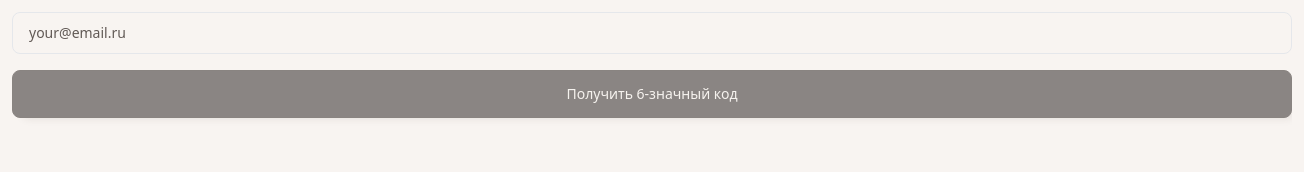
Scenario: EmailOtpForm › displays error and clears it when user edits input
The image size is (1304, 172).
Type "bad@email" into the field with placeholder "your@email.ru" at (652, 33), box [12,12,1292,54]
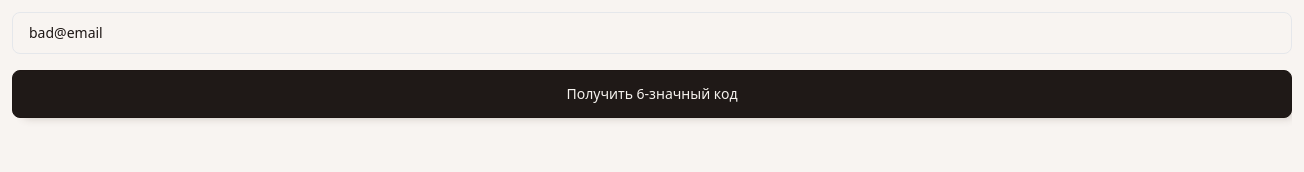
Click the button "Получить 6-значный код" at (652, 94), box [12,70,1292,118]
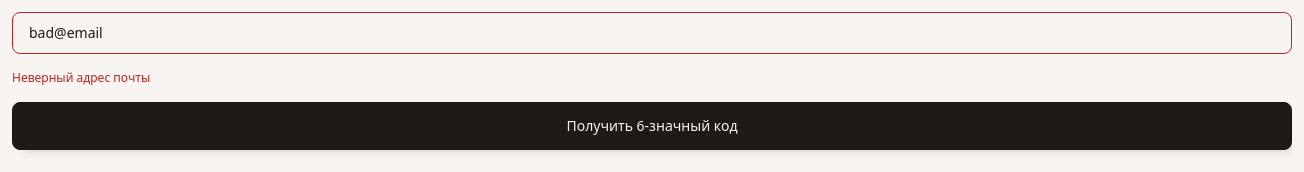
Check: the text "Неверный адрес почты" is shown, box [12,69,150,86]
# UX-правило сброса: ошибка сбрасывается на onChange
Replace the text in the field with placeholder "your@email.ru" with "correct@email.ru" at (652, 33), box [12,12,1292,54]
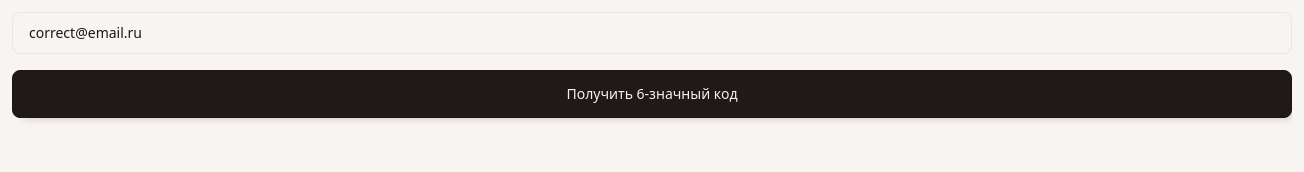
Check: the text "Неверный адрес почты" is gone
